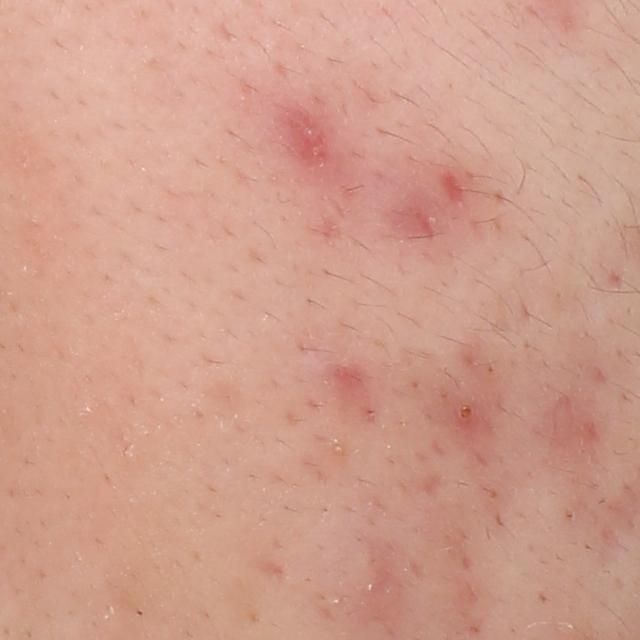atrophic_scar: (440, 171, 463, 204)
